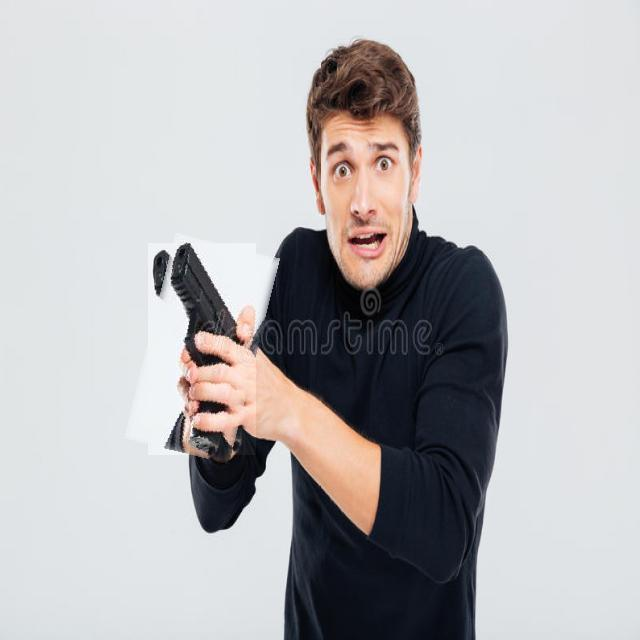Handgun: (136, 239, 269, 460)
